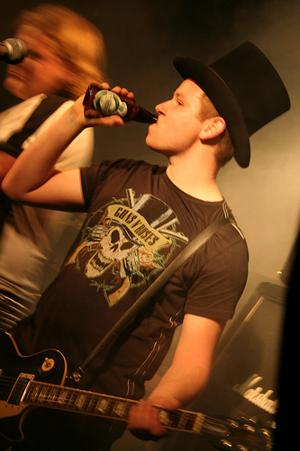person: (1, 40, 292, 451)
